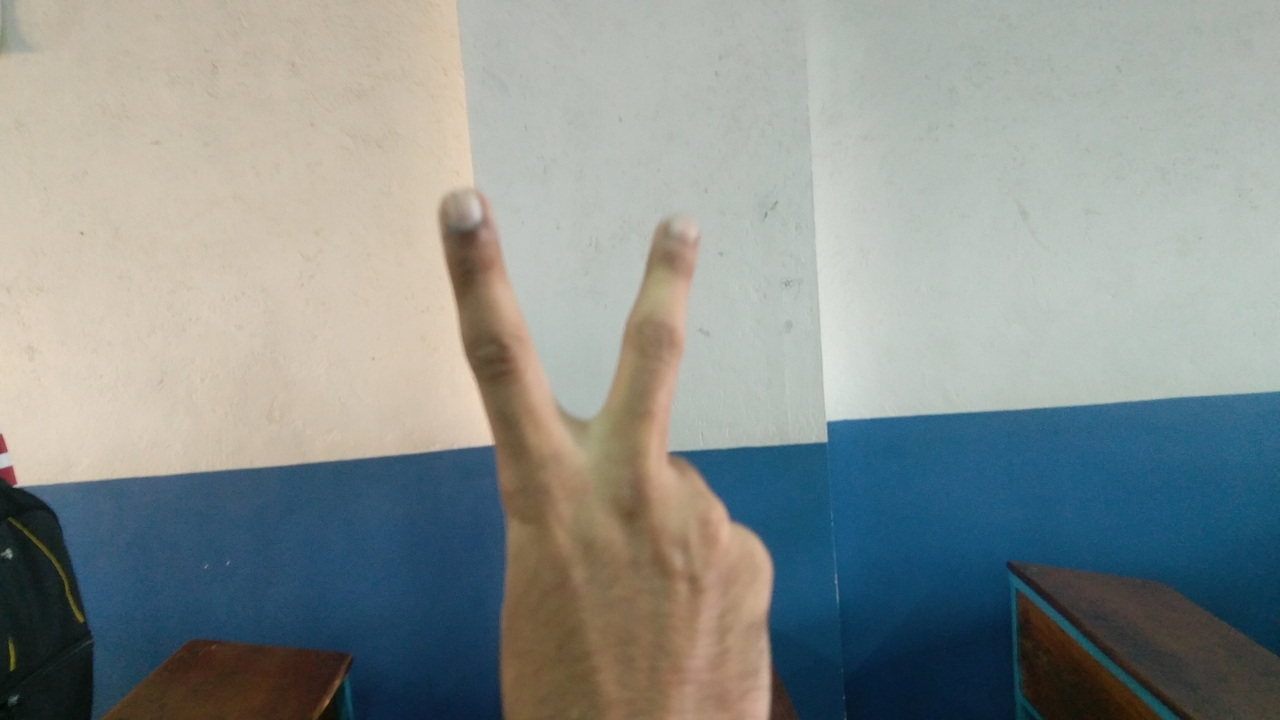fingertip: (434, 180, 500, 242), (642, 208, 710, 264)
